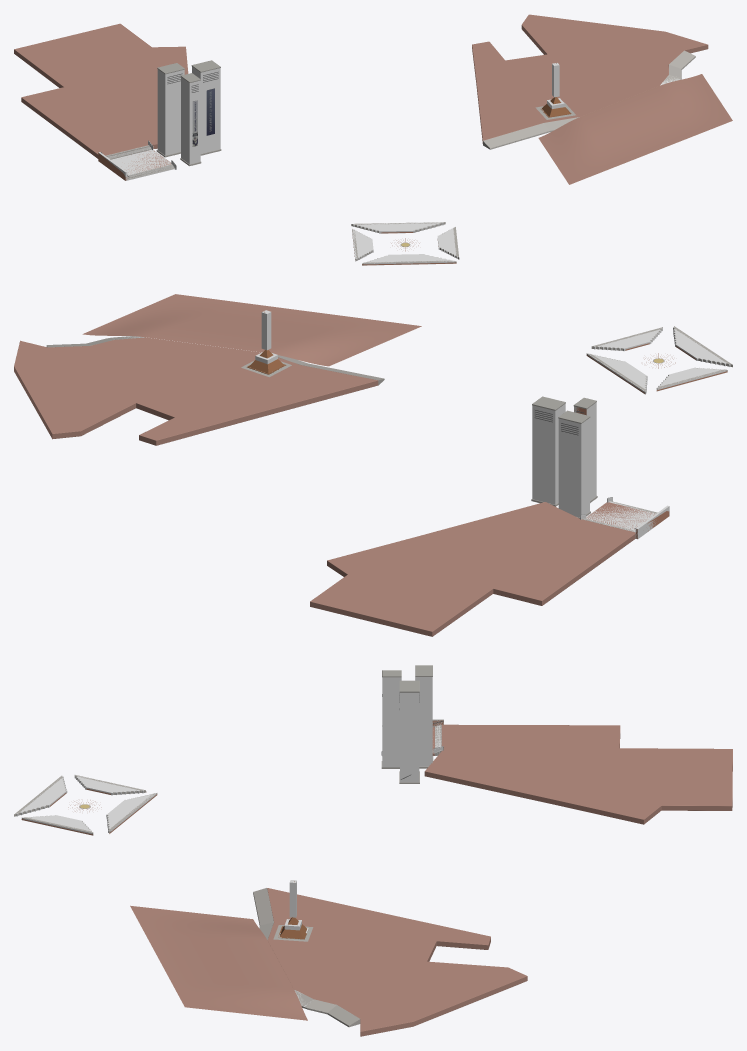
The model's file is landmarks.glb.
3 views of the same model, one above another, from view 1: azimuth 30°, elevation 25°; view 2: azimuth 150°, elevation 25°; view 3: azimuth 270°, elevation 25° (orthographic). The views are drawn at different scales.
Visible parts, largest first — view 1: landmarks_M_paverbrick, landmarks_M_aggregate, COL_monolith0, COL_monolith2, COL_monolith1, COL_od_landing, landmarks_M_concrete, landmarks_M_brick; view 2: landmarks_M_paverbrick, COL_monolith0, COL_monolith2, landmarks_M_aggregate, COL_od_landing, landmarks_M_concrete, COL_monolith1, landmarks_M_brick; view 3: landmarks_M_paverbrick, landmarks_M_aggregate, COL_monolith2, COL_monolith1, COL_monolith0, landmarks_M_concrete.
Boxes of the visible parts, left/top/right/bottom form: landmarks_M_paverbrick: left=14, top=14, right=732, bottom=184; landmarks_M_aggregate: left=105, top=50, right=695, bottom=265; COL_monolith0: left=157, top=69, right=184, bottom=155; COL_monolith2: left=192, top=66, right=220, bottom=153; COL_monolith1: left=181, top=77, right=200, bottom=164; COL_od_landing: left=111, top=149, right=171, bottom=174; landmarks_M_concrete: left=157, top=60, right=220, bottom=82; landmarks_M_brick: left=98, top=153, right=456, bottom=265; landmarks_M_paverbrick: left=14, top=294, right=654, bottom=636; COL_monolith0: left=558, top=418, right=589, bottom=517; COL_monolith2: left=532, top=403, right=565, bottom=504; landmarks_M_aggregate: left=46, top=326, right=732, bottom=531; COL_od_landing: left=586, top=502, right=655, bottom=530; landmarks_M_concrete: left=532, top=396, right=596, bottom=423; COL_monolith1: left=574, top=402, right=596, bottom=500; landmarks_M_brick: left=574, top=343, right=727, bottom=538; landmarks_M_paverbrick: left=130, top=724, right=732, bottom=1036; landmarks_M_aggregate: left=14, top=724, right=441, bottom=1027; COL_monolith2: left=400, top=692, right=419, bottom=782; COL_monolith1: left=382, top=677, right=401, bottom=767; COL_monolith0: left=415, top=677, right=432, bottom=766; landmarks_M_concrete: left=382, top=665, right=432, bottom=692.
Size of the model in its own units: 137 by 19.35 by 135.
Materials: 10 (2 with a texture image).
